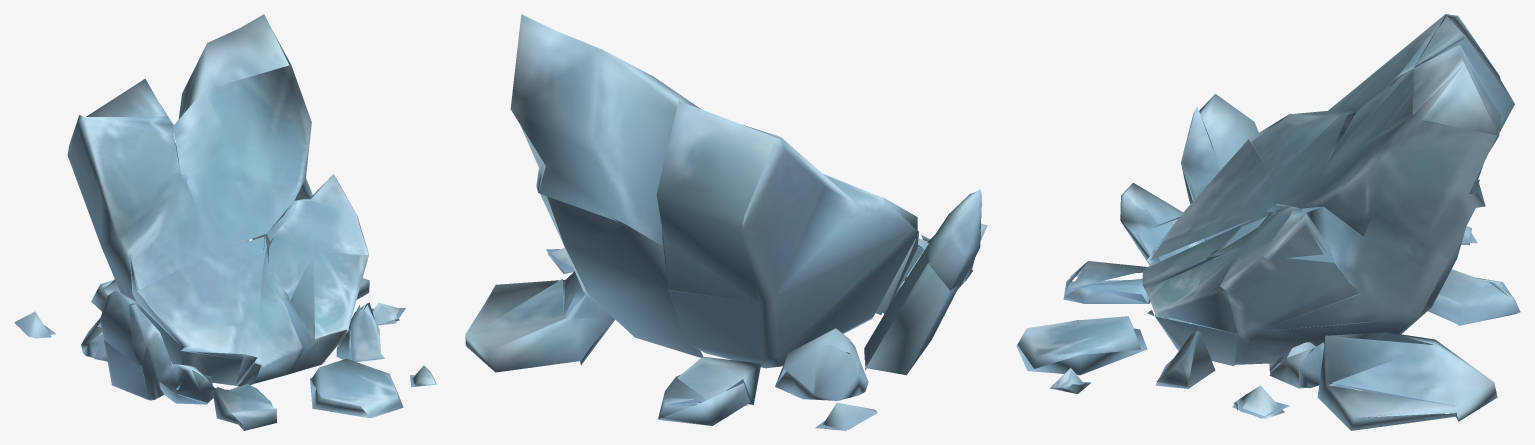
File: icechunk.glb
The picture shows the model from 3 angles, left to right: view 1: azimuth 30°, elevation 25°; view 2: azimuth 150°, elevation 25°; view 3: azimuth 270°, elevation 25°; orthographic projection. The views are drawn at different scales.
Parts seen in each view (by area): view 1: icechunk; view 2: icechunk; view 3: icechunk.
Part boxes in pixels (x1,y1,x2,y2): icechunk: (14, 14, 436, 430); icechunk: (465, 14, 987, 430); icechunk: (1016, 14, 1520, 430).
Size of the model in its own units: 1.86 by 1.51 by 2.04.
Materials: 1 (1 with a texture image).
